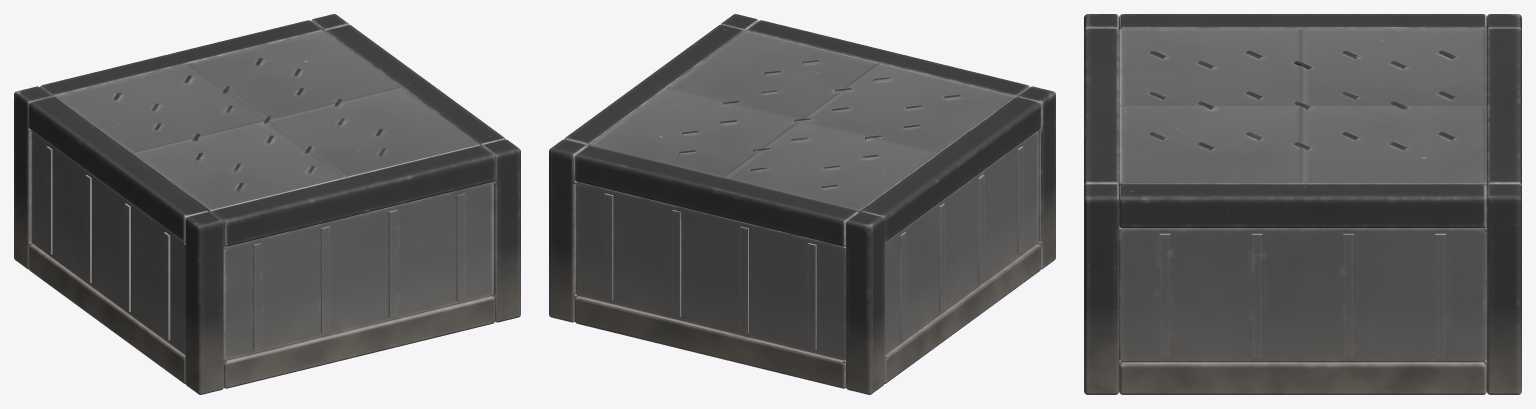
Rendered from SM_Foundation1m.glb.
3 views of the same model, side by side, from view 1: azimuth 30°, elevation 25°; view 2: azimuth 150°, elevation 25°; view 3: azimuth 270°, elevation 25° (orthographic). The views are drawn at different scales.
Visible parts, largest first — view 1: SM_Foundation1m; view 2: SM_Foundation1m; view 3: SM_Foundation1m.
Boxes of the visible parts, <box> form: SM_Foundation1m: <box>14,14,520,394</box>; SM_Foundation1m: <box>549,14,1055,394</box>; SM_Foundation1m: <box>1084,14,1521,394</box>.
Bounding box in the file's own units: 2 × 1 × 2.
Materials: 3 (3 with a texture image).
